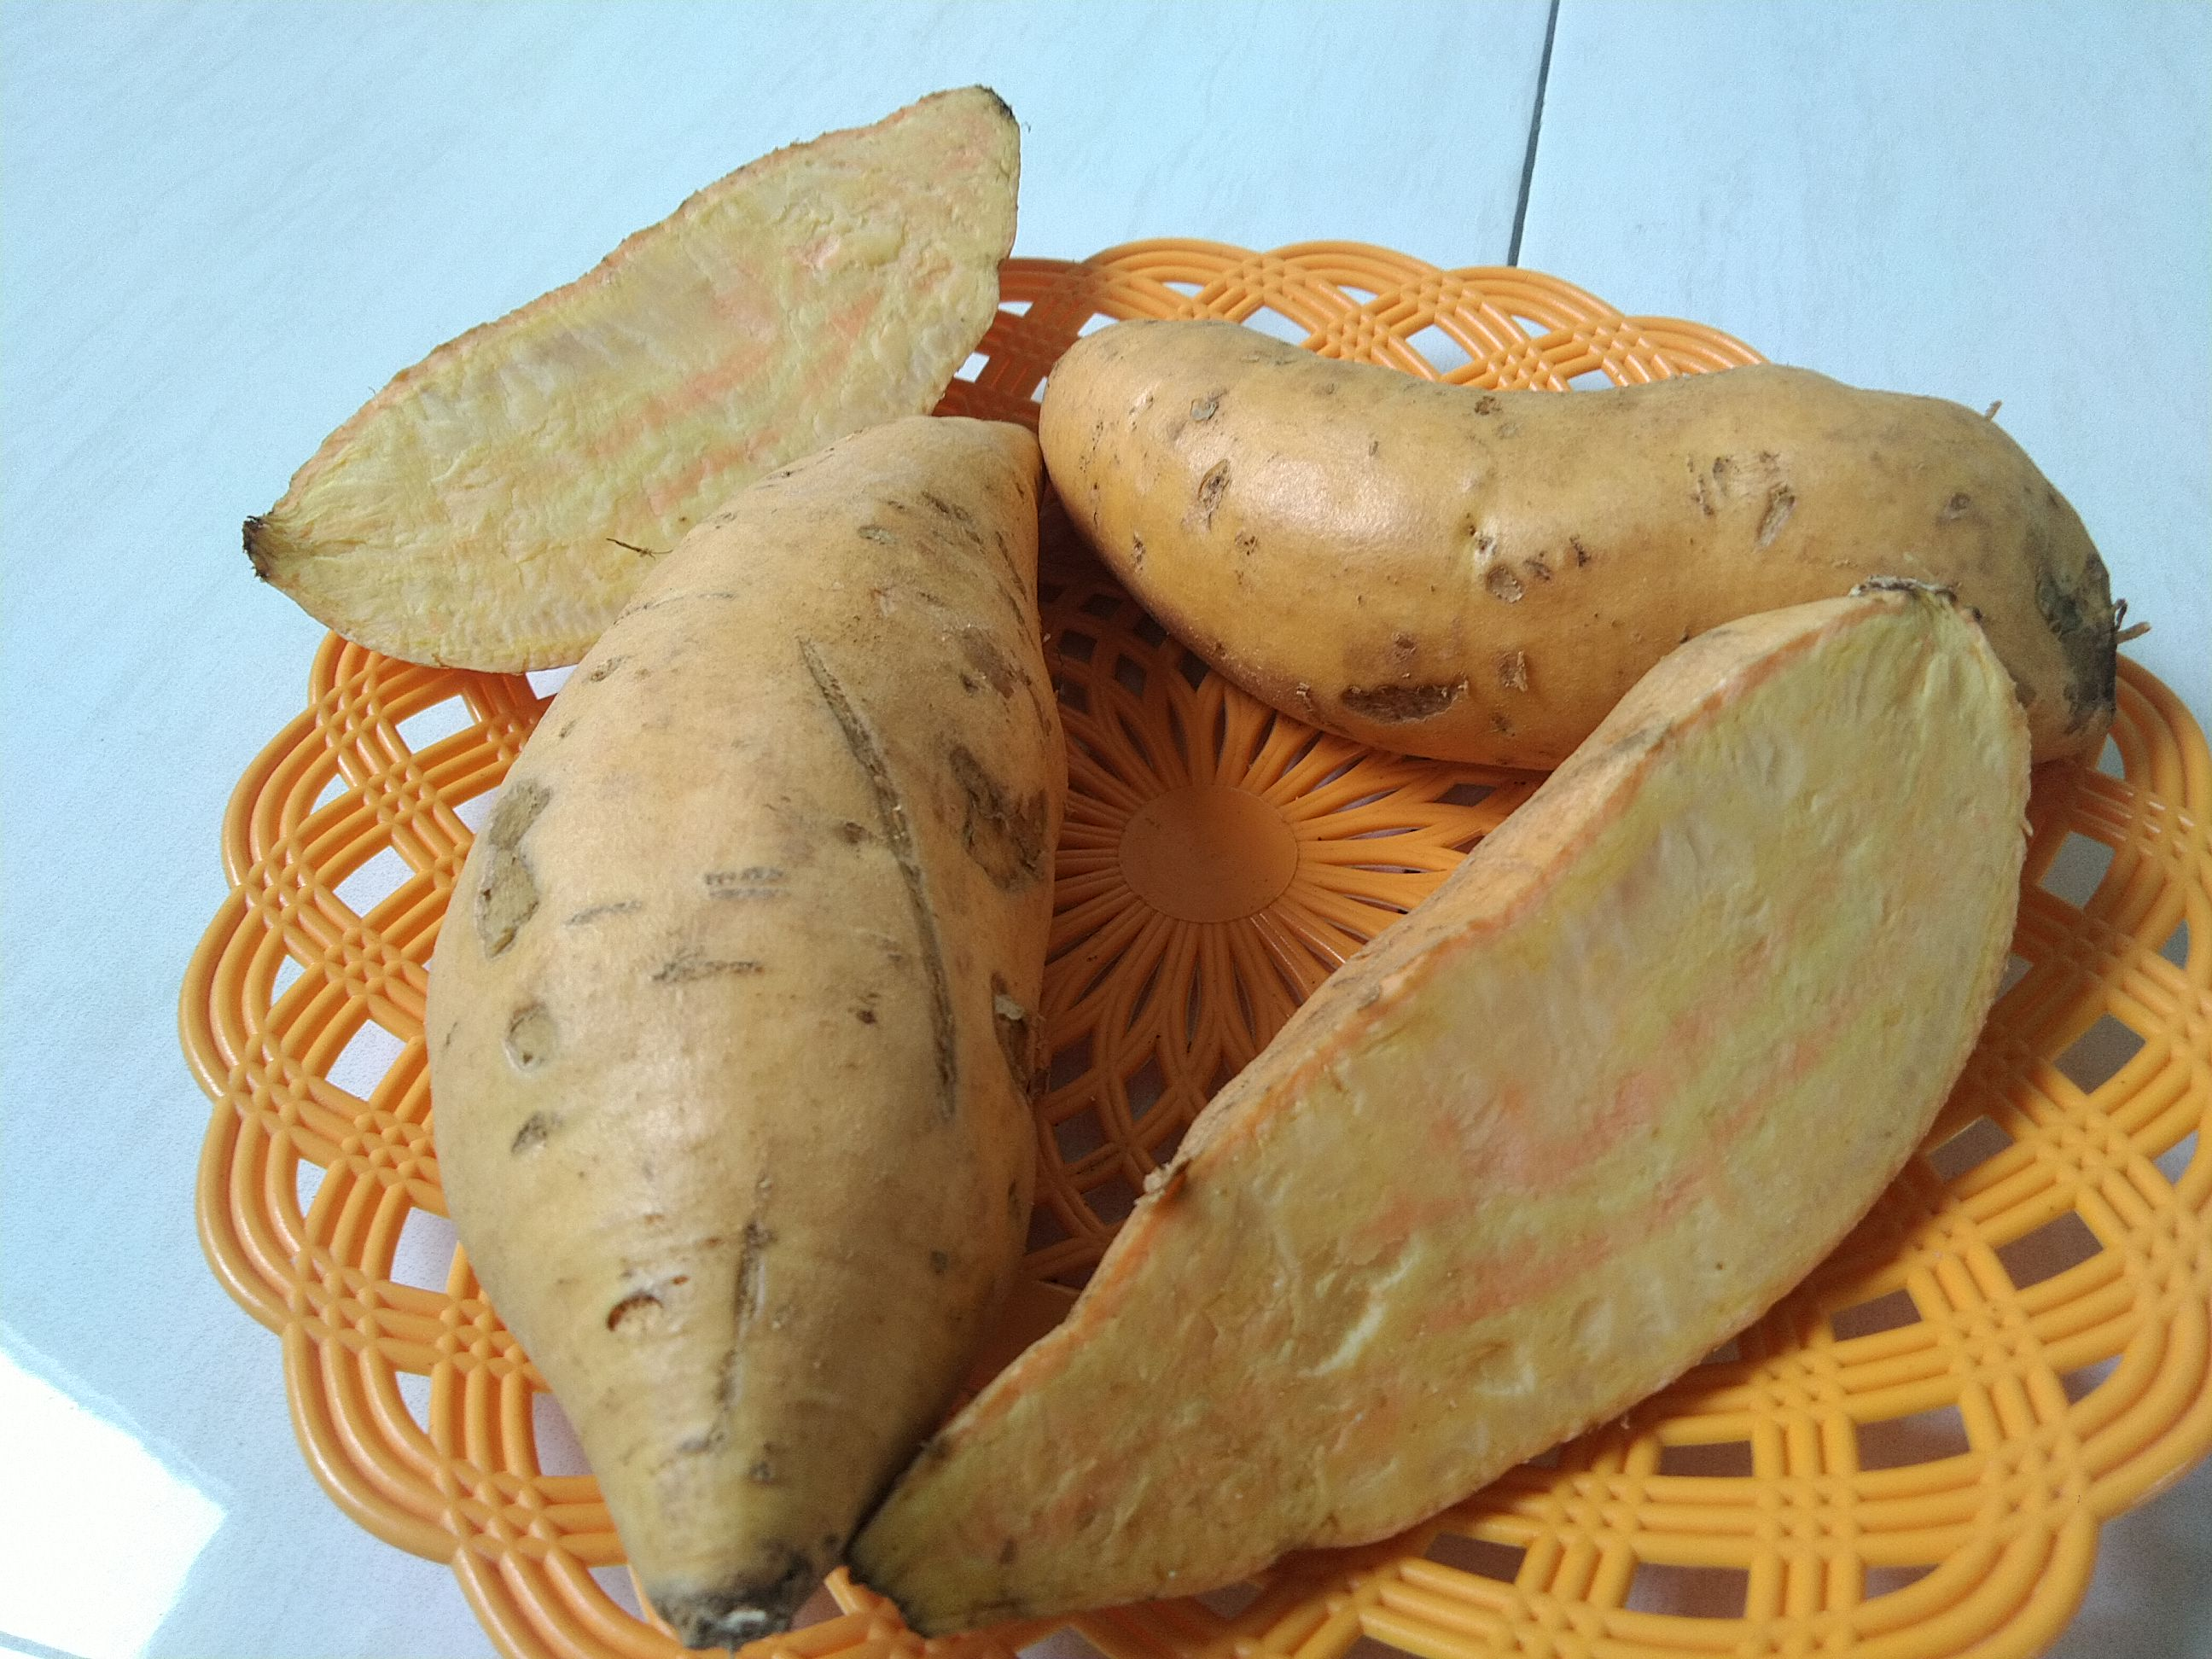ubi cilembu: (845, 584, 2120, 1650), (420, 385, 1068, 1643), (1033, 307, 2141, 798), (237, 84, 1069, 673)
